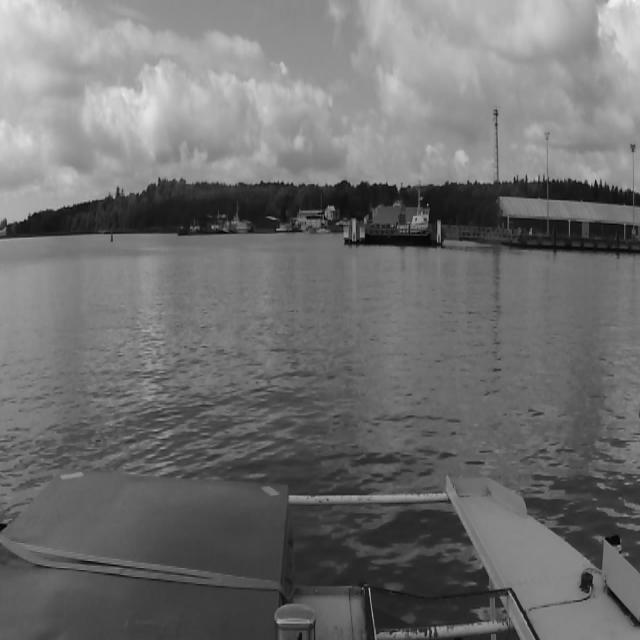buoy: (110, 231, 113, 243)
ship: (218, 198, 260, 238)
